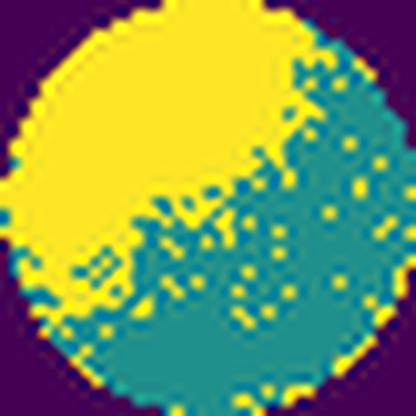Edge-Loc: (0, 0, 340, 322)
